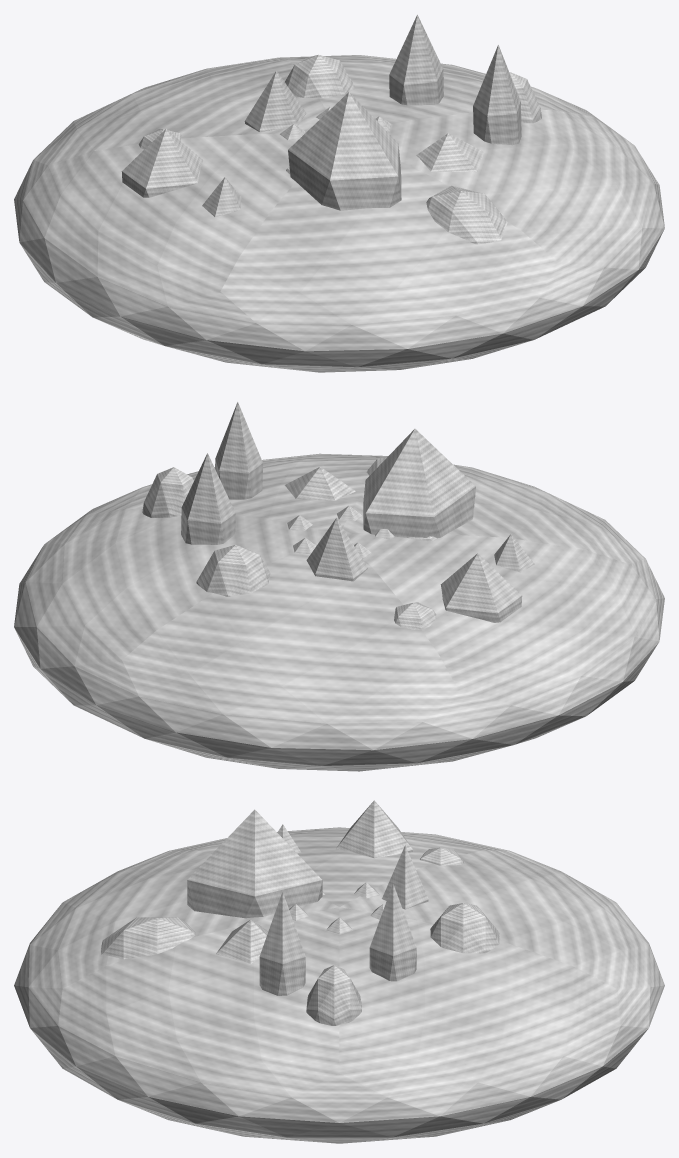
Rendered from iron_ore_node_variant_d.glb.
3 views of the same model, one above another, from view 1: azimuth 30°, elevation 25°; view 2: azimuth 150°, elevation 25°; view 3: azimuth 270°, elevation 25° (orthographic).
Visible parts, largest first — view 1: Resource node bedrock.003, Exposed ore formation.044, Exposed ore formation.041, Exposed ore formation.035, Exposed ore formation, Exposed ore formation.046, Exposed ore formation.037, Exposed ore formation.039, Exposed ore formation.047, Exposed ore formation.042, Exposed ore formation.034; view 2: Resource node bedrock.003, Exposed ore formation.044, Exposed ore formation.041, Exposed ore formation.035, Exposed ore formation, Exposed ore formation.037, Exposed ore formation.039, Exposed ore formation.034, Exposed ore formation.047, Exposed ore formation.040, Exposed ore formation.042; view 3: Resource node bedrock.003, Exposed ore formation.044, Exposed ore formation, Exposed ore formation.035, Exposed ore formation.046, Exposed ore formation.037, Exposed ore formation.034, Exposed ore formation.041, Exposed ore formation.039, Exposed ore formation.047, Exposed ore formation.040.
Part boxes in pixels (left/top/right/bottom): Resource node bedrock.003: left=14, top=55, right=664, bottom=372; Exposed ore formation.044: left=288, top=92, right=401, bottom=210; Exposed ore formation.041: left=121, top=129, right=202, bottom=197; Exposed ore formation.035: left=389, top=14, right=443, bottom=105; Exposed ore formation: left=473, top=45, right=521, bottom=145; Exposed ore formation.046: left=426, top=185, right=507, bottom=244; Exposed ore formation.037: left=285, top=54, right=355, bottom=97; Exposed ore formation.039: left=244, top=71, right=306, bottom=131; Exposed ore formation.047: left=416, top=133, right=483, bottom=171; Exposed ore formation.042: left=202, top=177, right=241, bottom=216; Exposed ore formation.034: left=509, top=72, right=541, bottom=123; Resource node bedrock.003: left=14, top=453, right=664, bottom=771; Exposed ore formation.044: left=363, top=428, right=475, bottom=538; Exposed ore formation.041: left=440, top=553, right=522, bottom=622; Exposed ore formation.035: left=181, top=453, right=235, bottom=544; Exposed ore formation: left=215, top=402, right=262, bottom=499; Exposed ore formation.037: left=196, top=544, right=270, bottom=596; Exposed ore formation.039: left=306, top=518, right=367, bottom=581; Exposed ore formation.034: left=142, top=467, right=193, bottom=517; Exposed ore formation.047: left=284, top=467, right=355, bottom=500; Exposed ore formation.040: left=394, top=602, right=436, bottom=629; Exposed ore formation.042: left=494, top=534, right=534, bottom=572; Resource node bedrock.003: left=14, top=827, right=664, bottom=1143; Exposed ore formation.044: left=187, top=809, right=322, bottom=918; Exposed ore formation: left=259, top=891, right=305, bottom=995; Exposed ore formation.035: left=369, top=883, right=416, bottom=981; Exposed ore formation.046: left=101, top=917, right=195, bottom=959; Exposed ore formation.037: left=430, top=903, right=499, bottom=953; Exposed ore formation.034: left=306, top=965, right=361, bottom=1025; Exposed ore formation.041: left=336, top=800, right=412, bottom=858; Exposed ore formation.039: left=382, top=845, right=428, bottom=909; Exposed ore formation.047: left=216, top=919, right=267, bottom=963; Exposed ore formation.040: left=420, top=847, right=465, bottom=865.
Size of what is drawn, in the model's own units: 6.4 by 2.59 by 6.4.
Materials: 2 (2 with a texture image).
